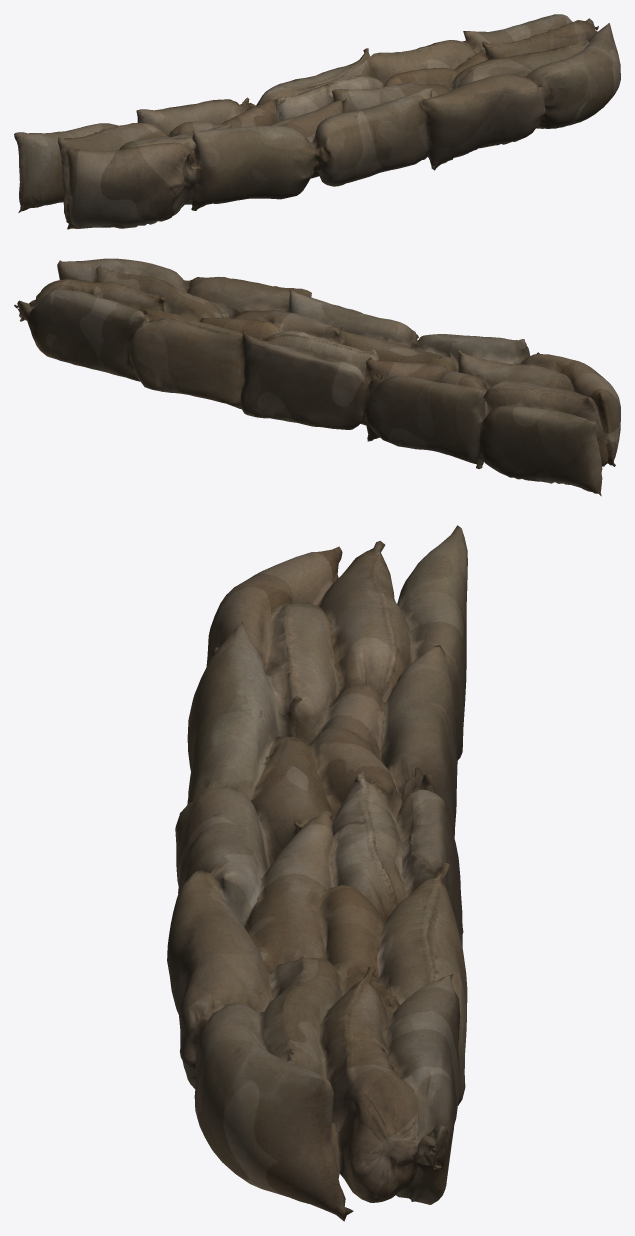
The model's file is sandbag.obj.
3 views of the same model, one above another, from view 1: azimuth 30°, elevation 25°; view 2: azimuth 150°, elevation 25°; view 3: azimuth 270°, elevation 25° (orthographic). The views are drawn at different scales.
Visible parts, largest first — view 1: SM_SBFlat__0; view 2: SM_SBFlat__0; view 3: SM_SBFlat__0.
Part boxes in pixels (x1,y1,x2,y2): SM_SBFlat__0: [14, 14, 620, 229]; SM_SBFlat__0: [14, 258, 620, 496]; SM_SBFlat__0: [167, 525, 467, 1221].
Size of the model in its own units: 2.87 by 0.4617 by 0.6445.
1 material, 1 textured.
